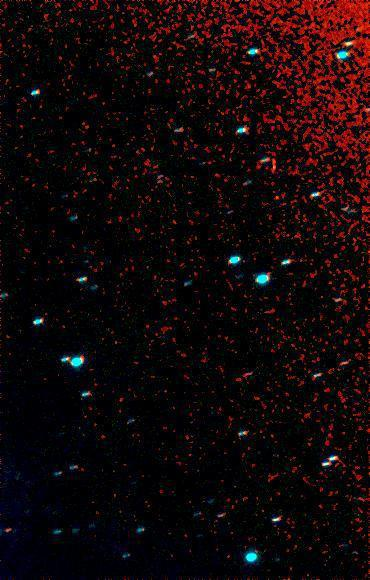star: (0, 516, 26, 546)
